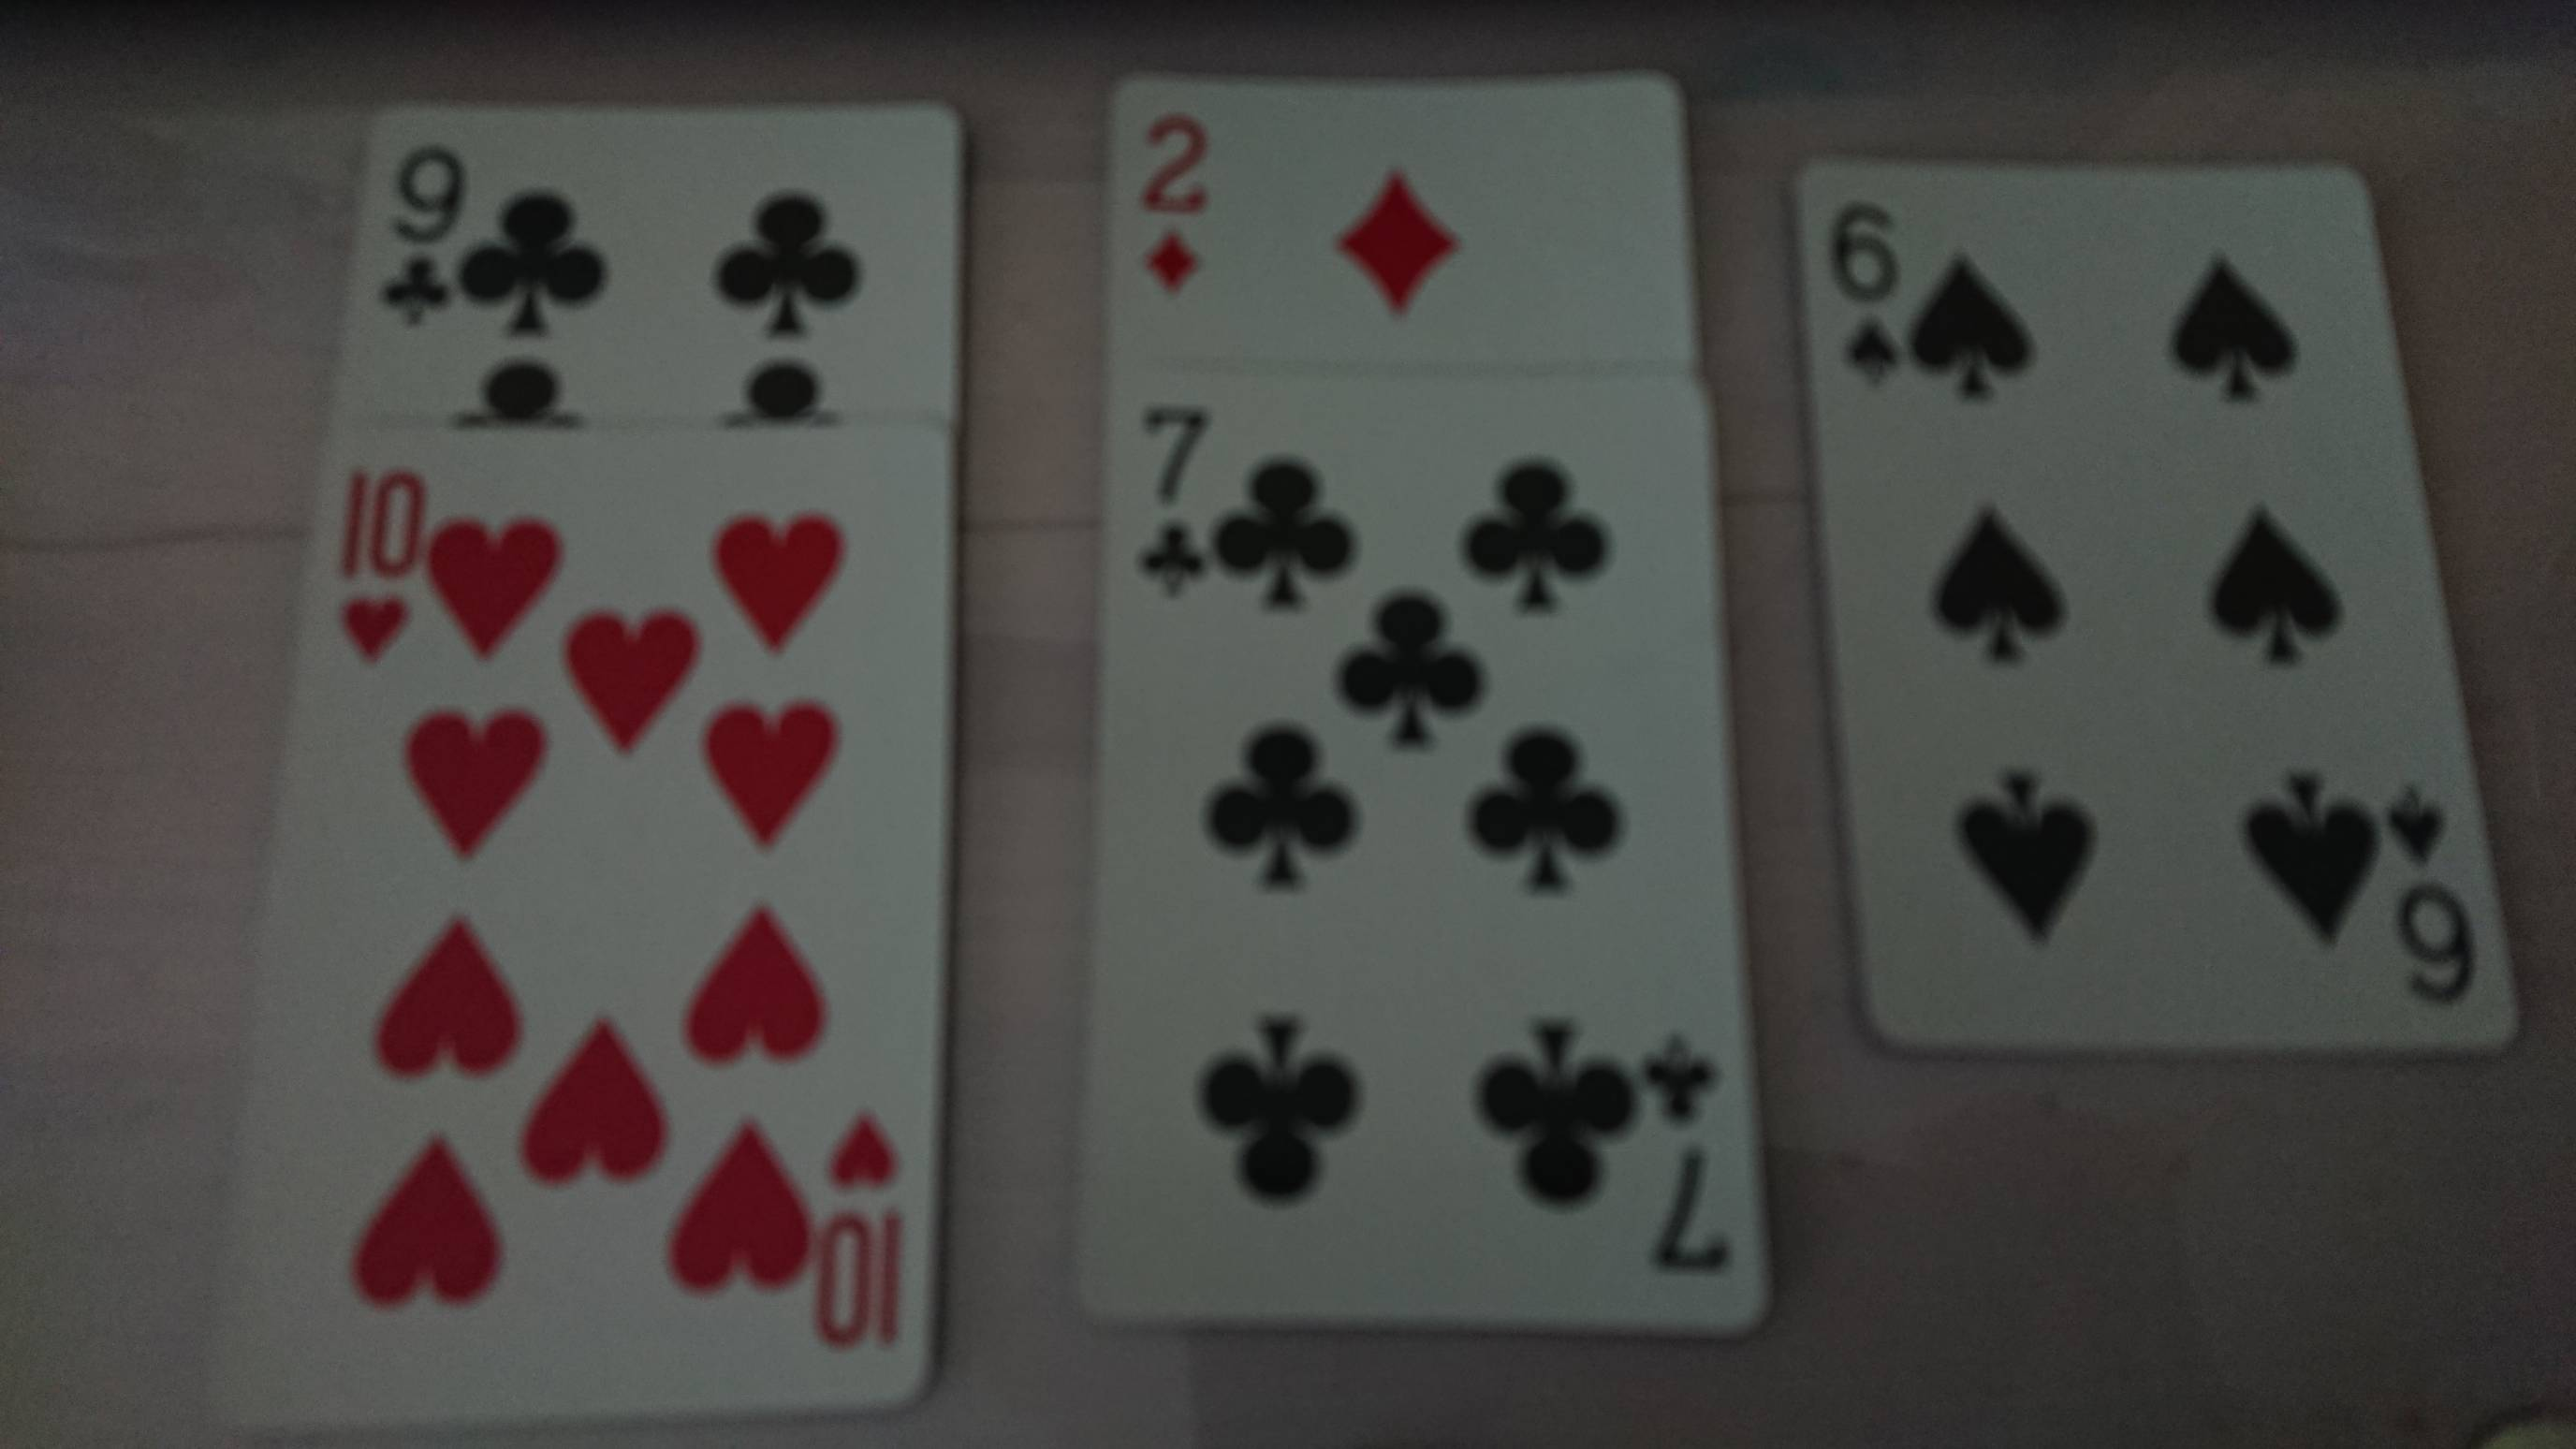10H: (326, 465, 435, 671)
2D: (1129, 104, 1214, 301)
6S: (1822, 196, 1913, 395)
7C: (1123, 396, 1215, 605)
9C: (373, 142, 474, 331)
